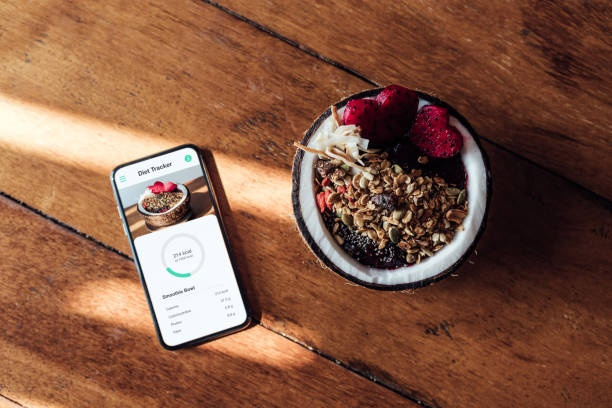phone: (112, 142, 254, 350)
